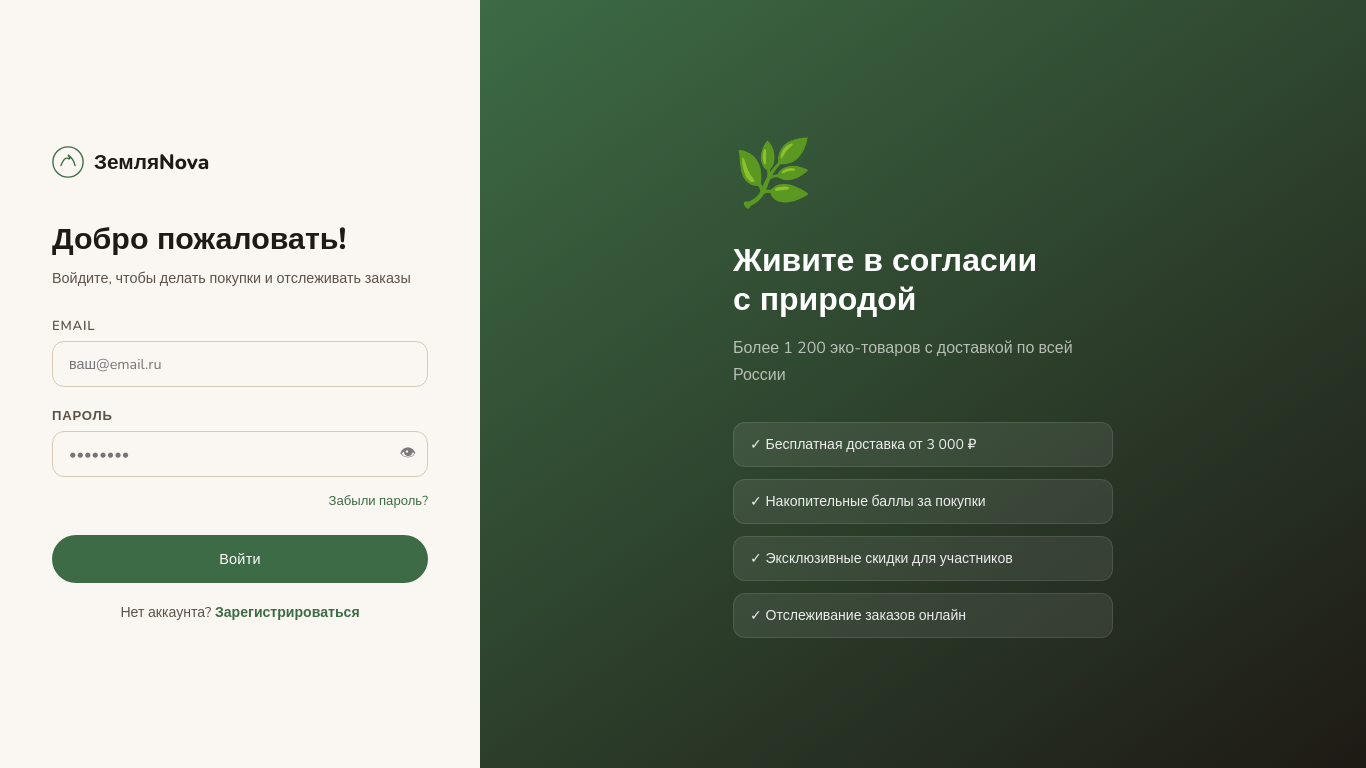
it: LoginPage › показывает ошибку при пустом email
The width and height of the screenshot is (1366, 768).
Step 1. Click the button "Войти" → (240, 559), box top-left (52, 535), bottom-right (428, 583)
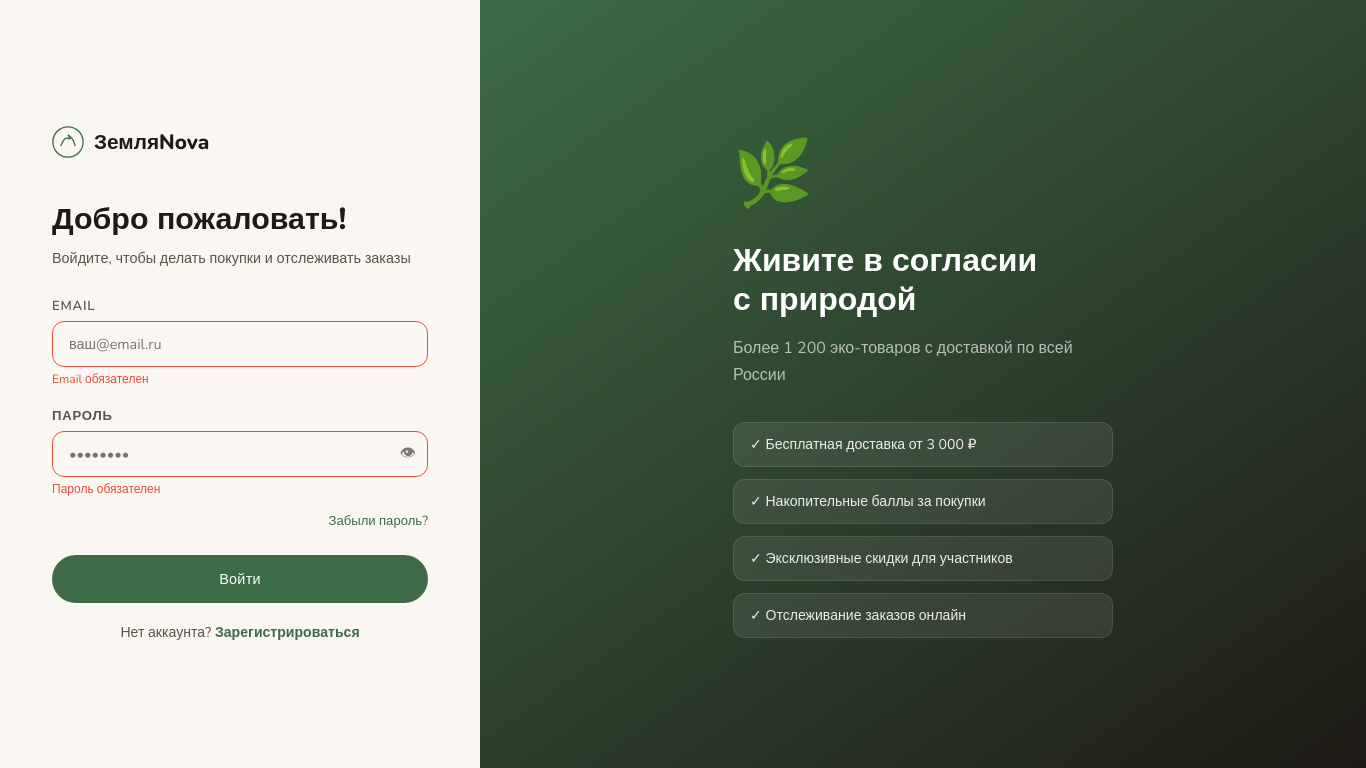
Check: the text "Email обязателен" is shown, box top-left (52, 371), bottom-right (149, 387)
